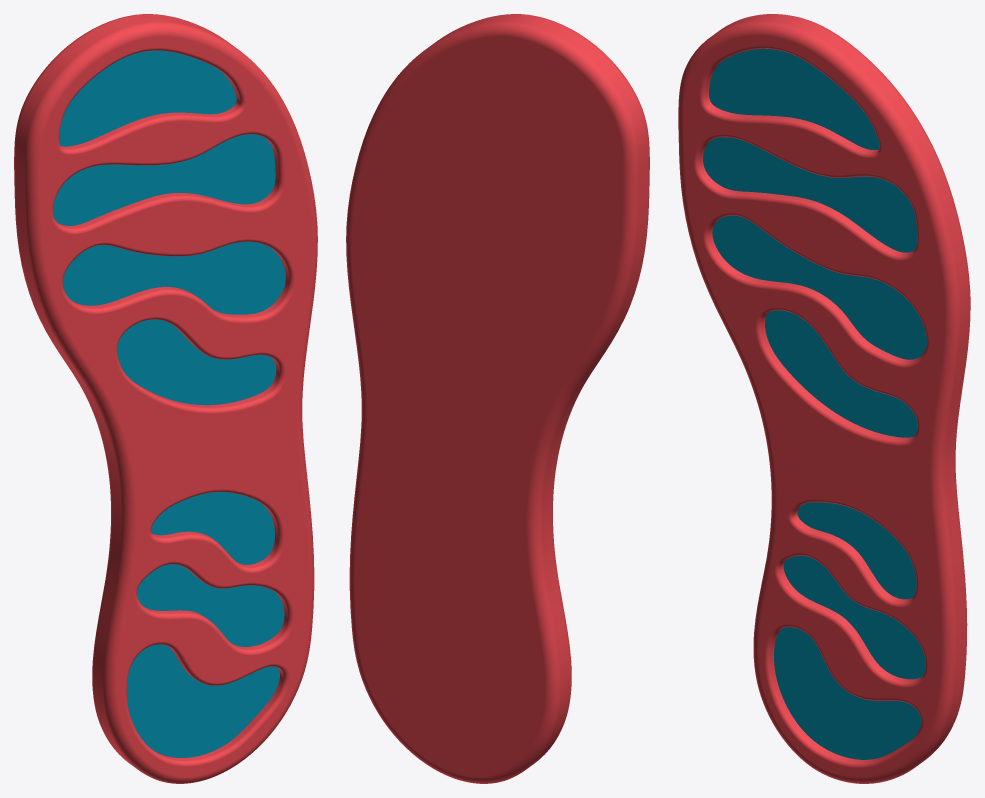
File: huella.fbx
3 renders of one model, left to right at view 1: azimuth 30°, elevation 25°; view 2: azimuth 150°, elevation 25°; view 3: azimuth 330°, elevation 25°, orthographic. The views are drawn at different scales.
Visible parts, largest first — view 1: Layer 01; view 2: Layer 01; view 3: Layer 01.
Part boxes in pixels (box(x1,y1,x2,y2)): Layer 01: box(14, 14, 317, 783); Layer 01: box(346, 14, 649, 783); Layer 01: box(678, 14, 970, 783).
Size of the model in its own units: 0.2922 by 0.7388 by 0.0361.
